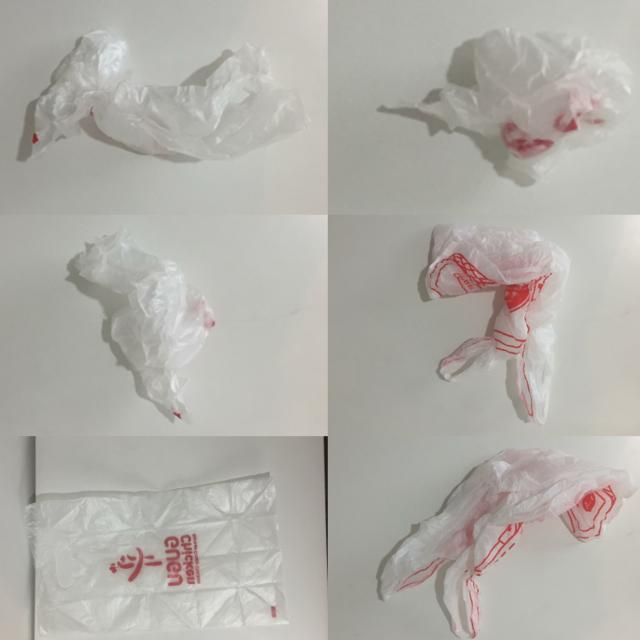plastik: (381, 449, 636, 638), (26, 476, 289, 636), (32, 30, 309, 161), (414, 30, 631, 185), (426, 226, 570, 424), (76, 229, 215, 421)
